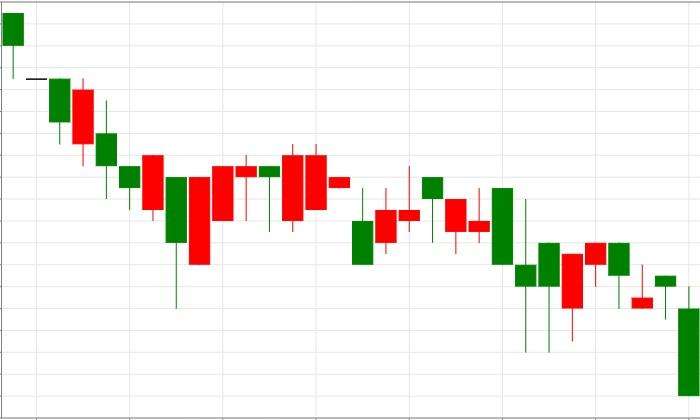bullish_engulfing_rise: (2, 13, 164, 221)
hanging_man_fall: (352, 166, 443, 265)
